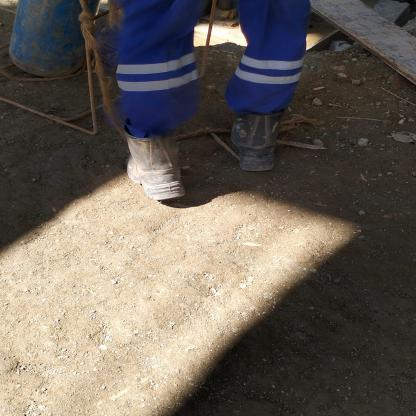bota: (107, 126, 195, 202), (217, 102, 289, 173)
